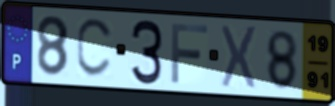3: (128, 16, 165, 87)
8: (263, 28, 301, 91), (35, 14, 70, 79)
C: (75, 16, 116, 81)
F: (170, 21, 211, 86)
X: (219, 23, 259, 93)
